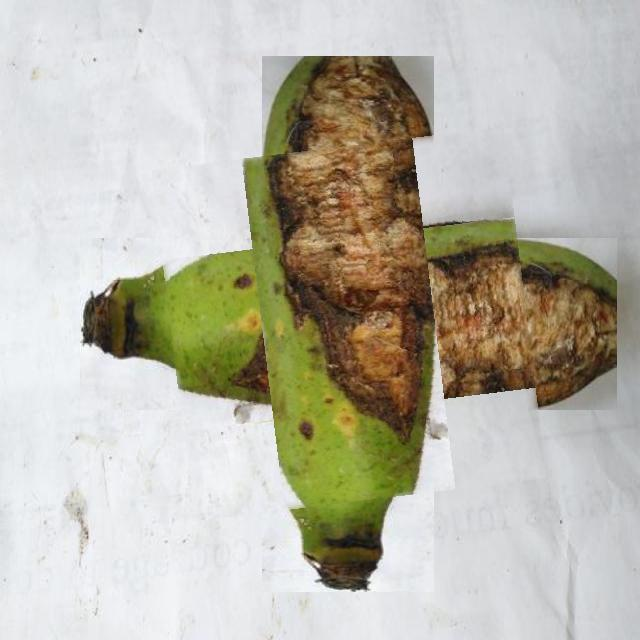Podre: (161, 137, 536, 511)
